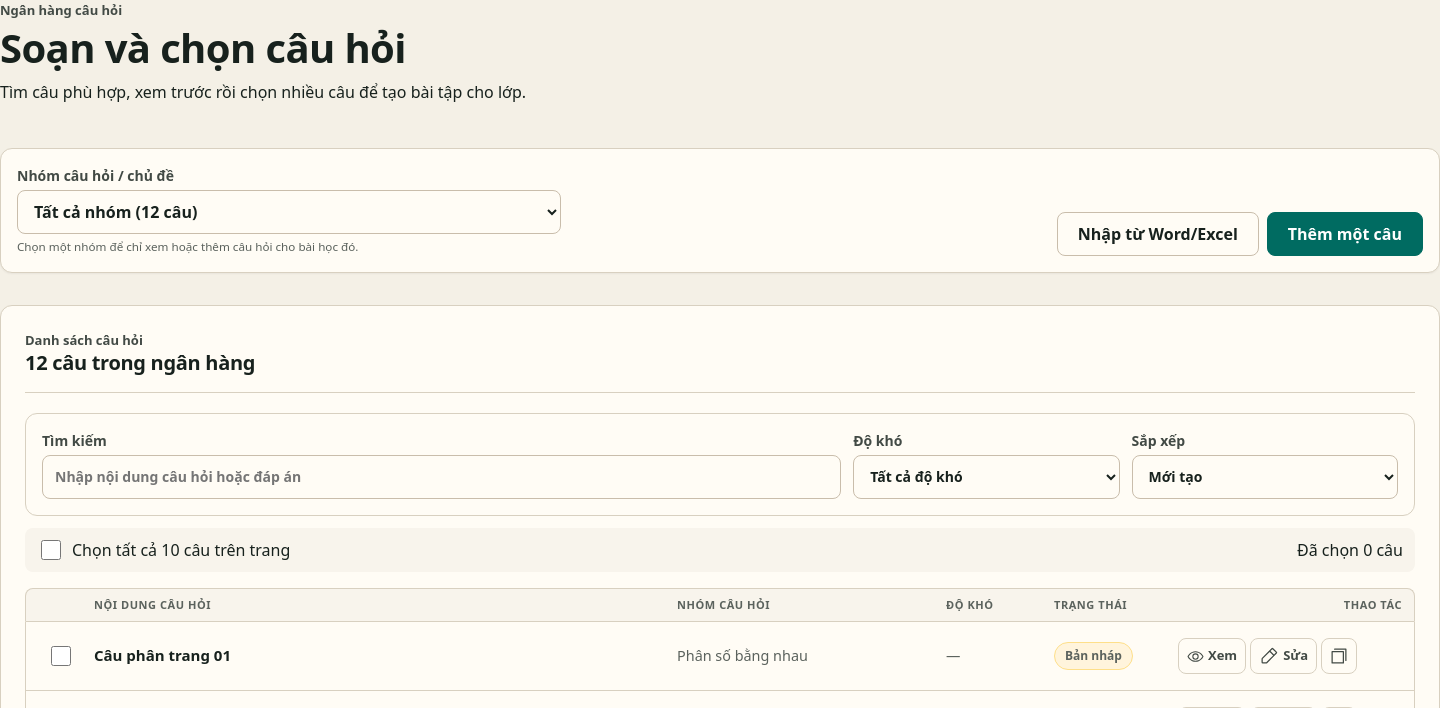
Test: Teacher question bank workflow › paginates the filtered list and keeps selected questions across pages
The image size is (1440, 708).
Click the checkbox labelled "Chọn tất cả 10 câu trên trang": (51, 550) [41,540,61,560]
(page scrolled)
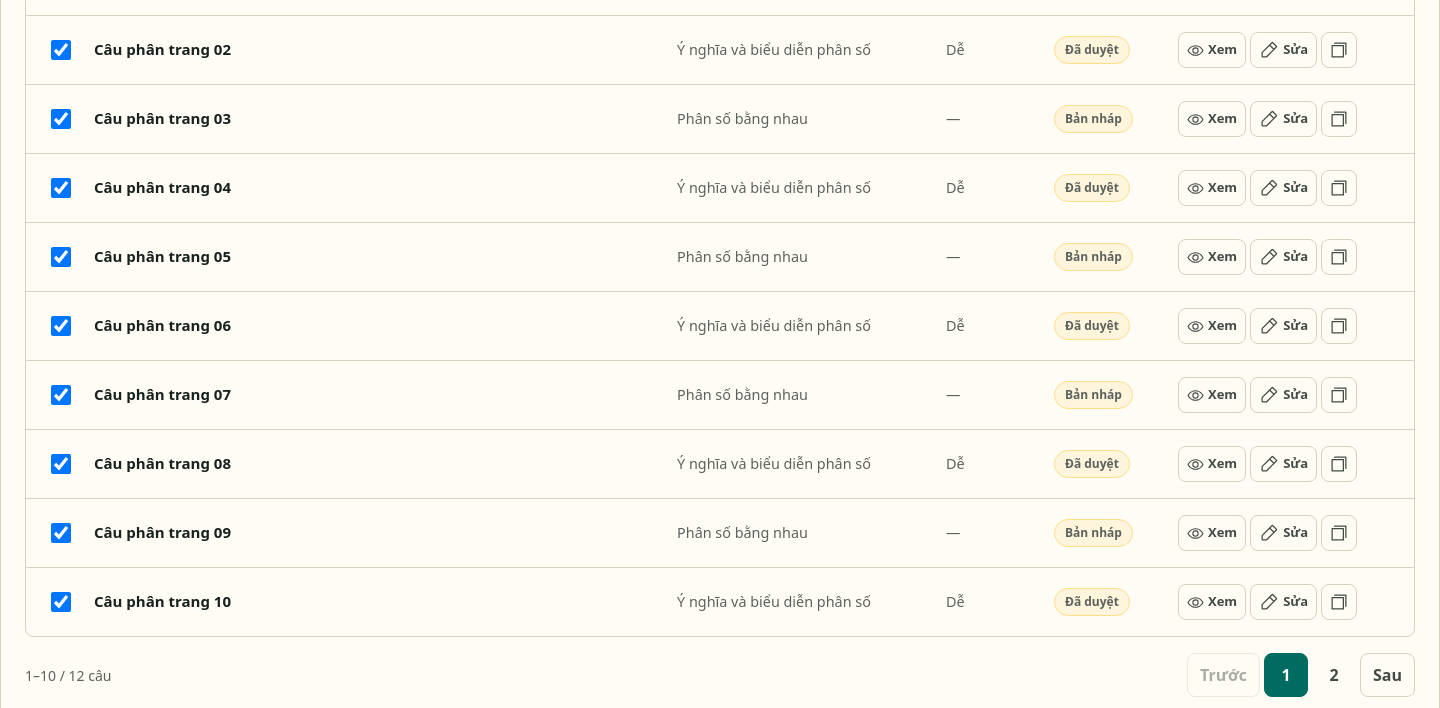
Click the button "Sau": (1388, 675) [1360,653,1415,697]
(page scrolled)
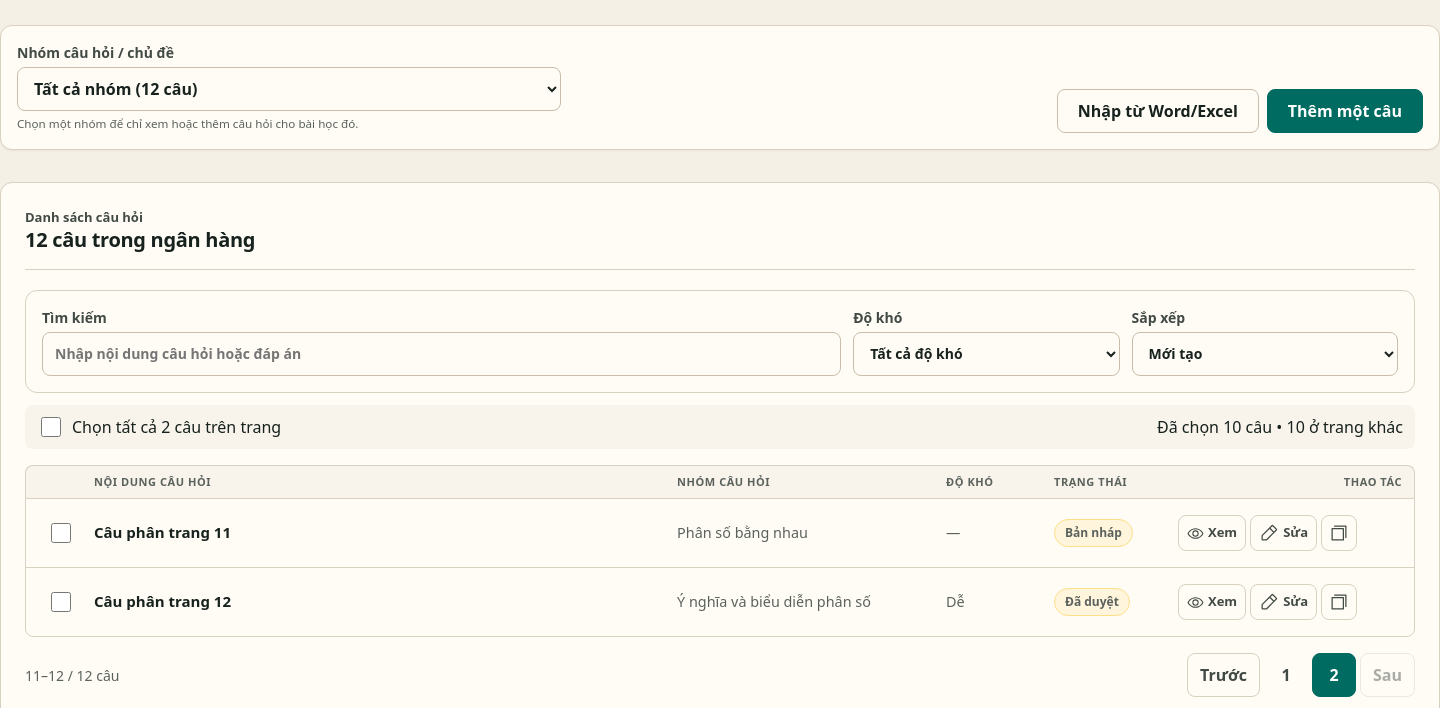
Now the text "11–12 / 12 câu" is shown, box [25,664,120,686]
Now the text "Đã chọn 10 câu • 10 ở trang khác" is shown, box [1157,414,1403,438]
In the search field labelled "Tìm kiếm": (442, 354) [42,332,841,376], type "Câu phân trang 12"
(page scrolled)
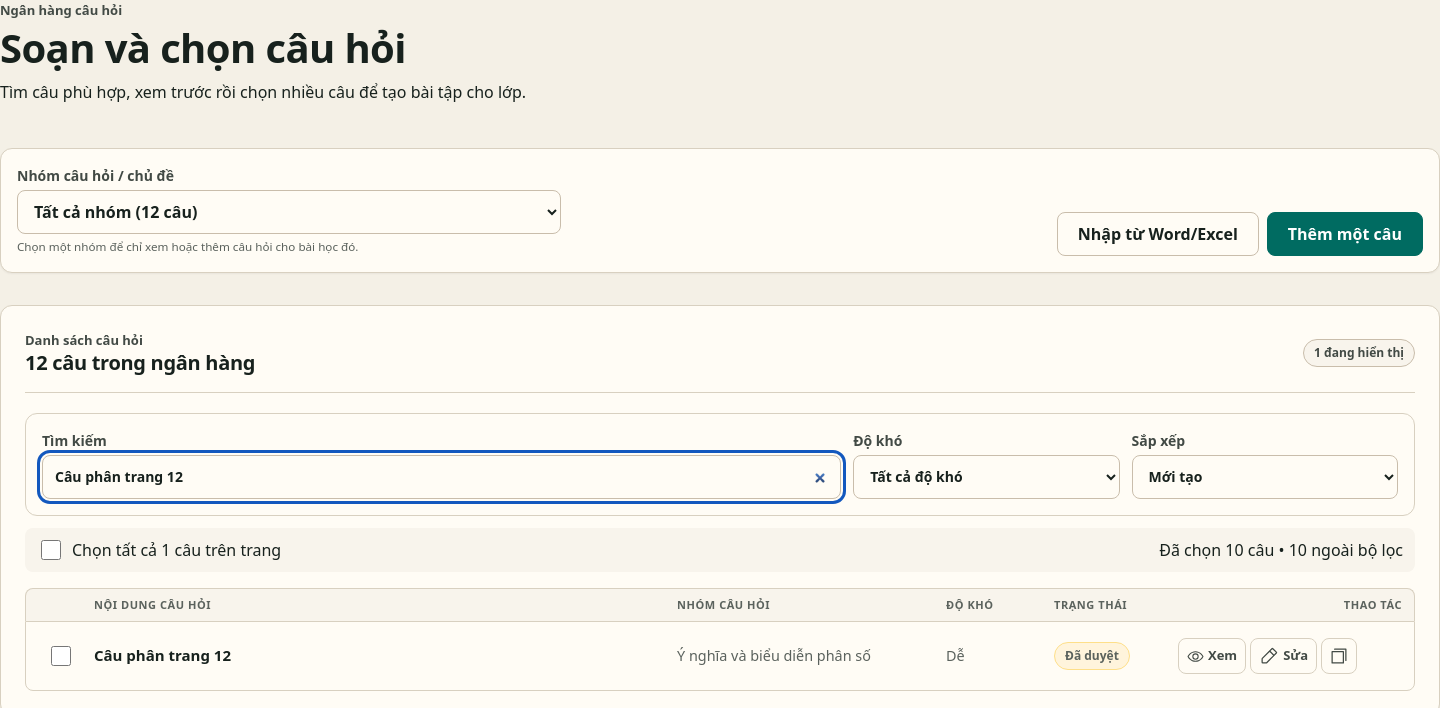
Clear the search field labelled "Tìm kiếm": (442, 476) [42,454,841,498]
(page scrolled)
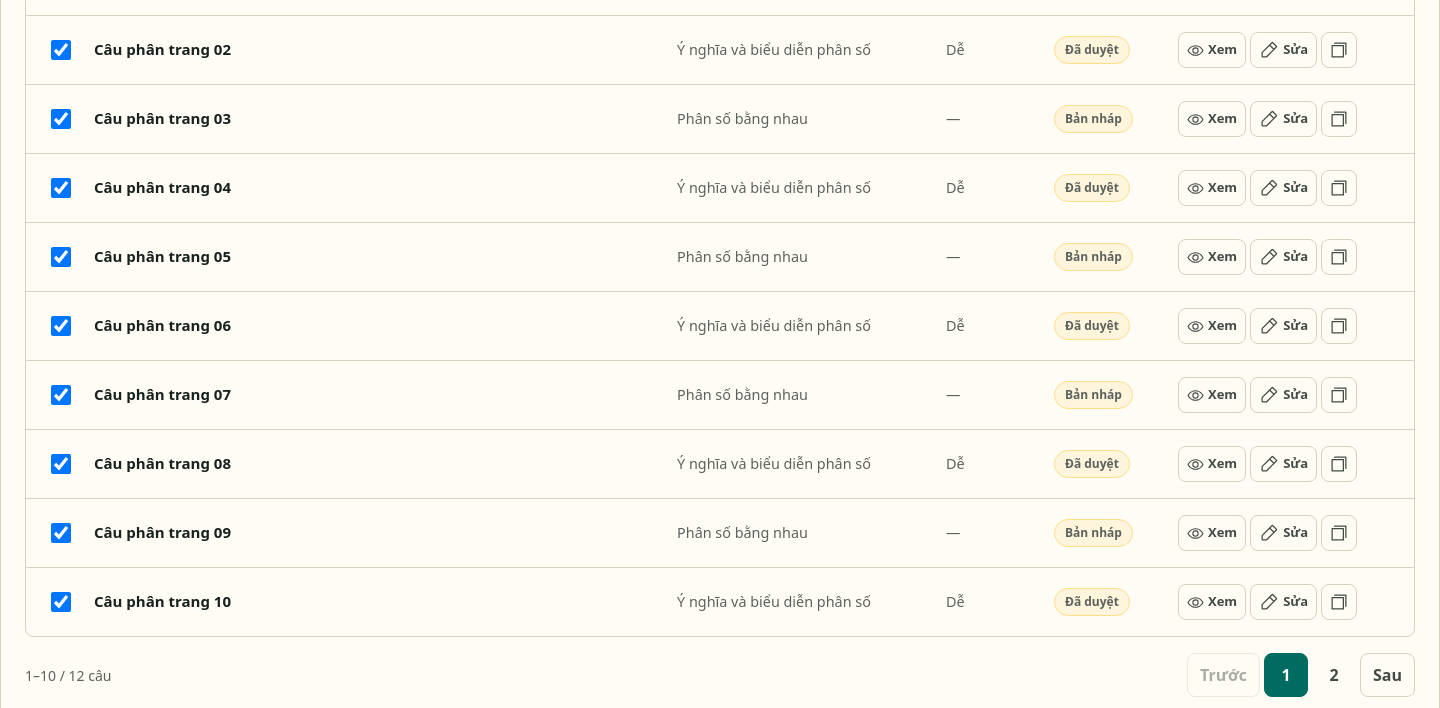
Now the text "1–10 / 12 câu" is shown, box [25,664,112,686]
